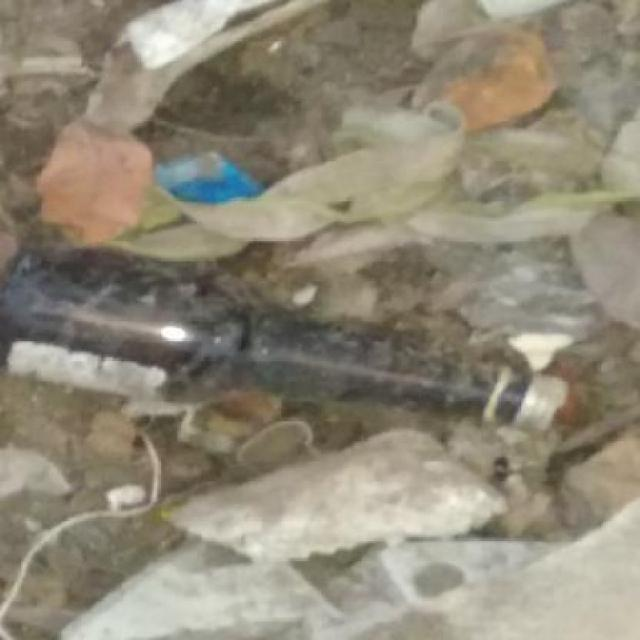garbage: (14, 226, 601, 449), (65, 14, 634, 215), (25, 475, 635, 640)
